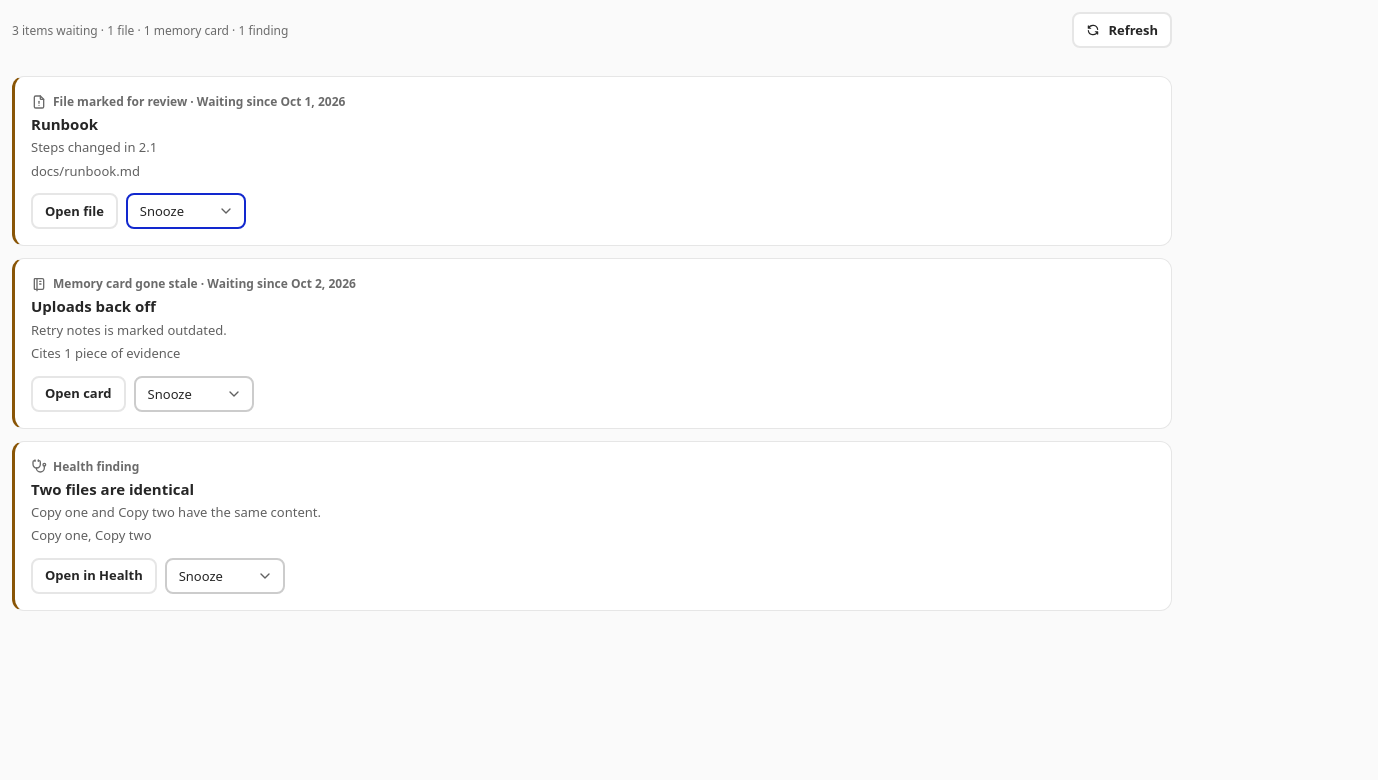
ReviewQueuePanel › snoozes an item until the day chosen, reads the list again and shares the answer with the tab
Expected: the heading "Runbook" is shown, [31, 114, 98, 134]
Press ArrowDown in the dropdown named "Snooze Runbook", box [126, 193, 246, 229]
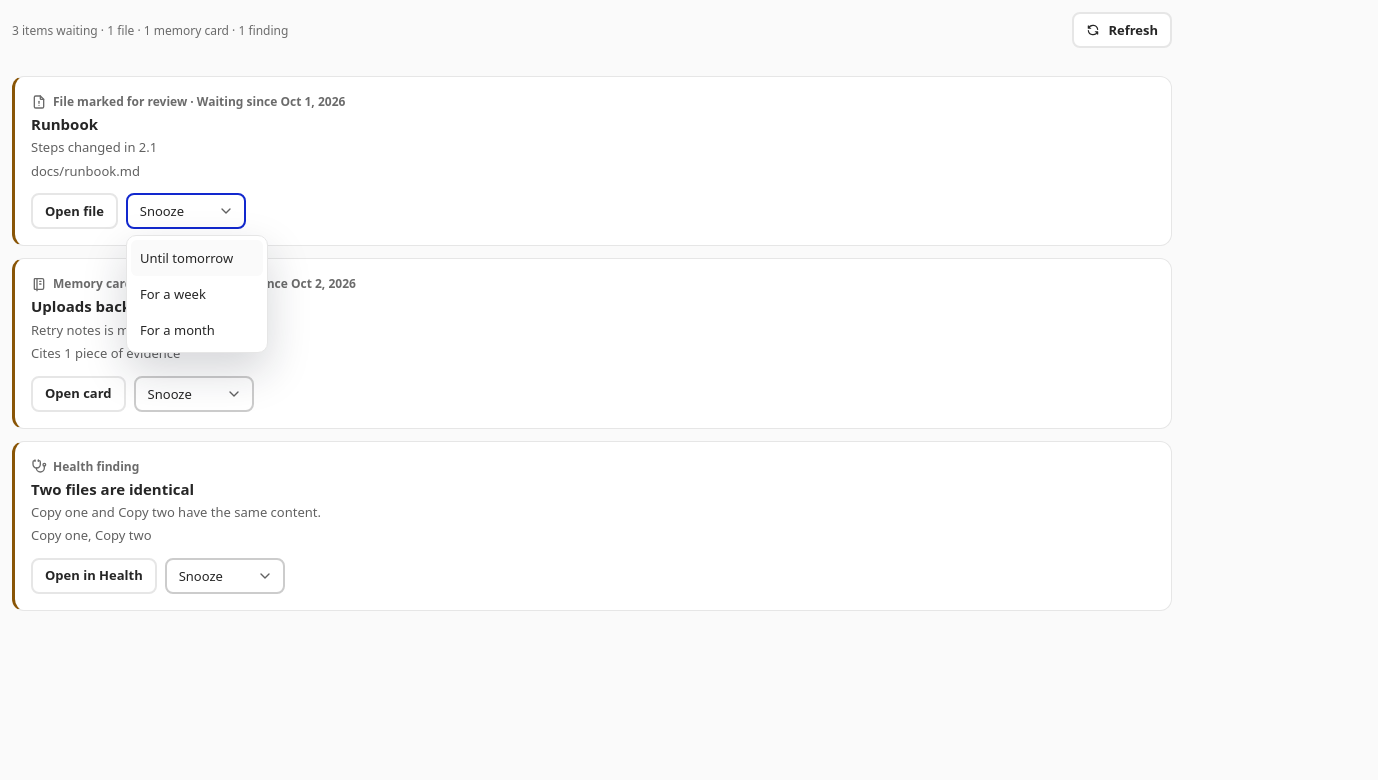
Press Enter in the option "For a week", box [140, 285, 206, 303]
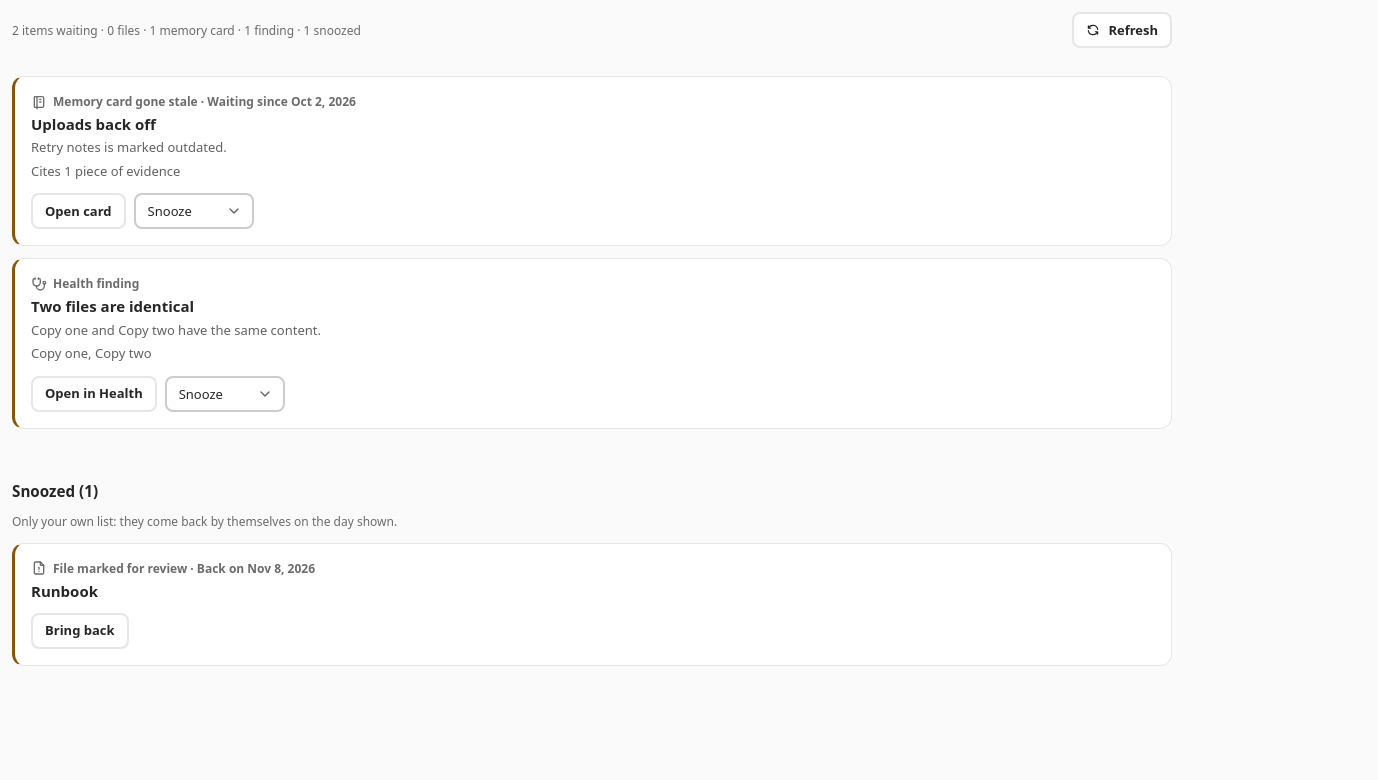
Expected: the text "2 items waiting" is shown, [12, 22, 294, 38]
Expected: the text "1 snoozed" is shown, [294, 22, 361, 38]
Expected: the text "File marked for review · Back on Nov 8, 2026" is shown, [31, 560, 315, 576]
Click the button "Bring back": (80, 631) [31, 613, 129, 649]
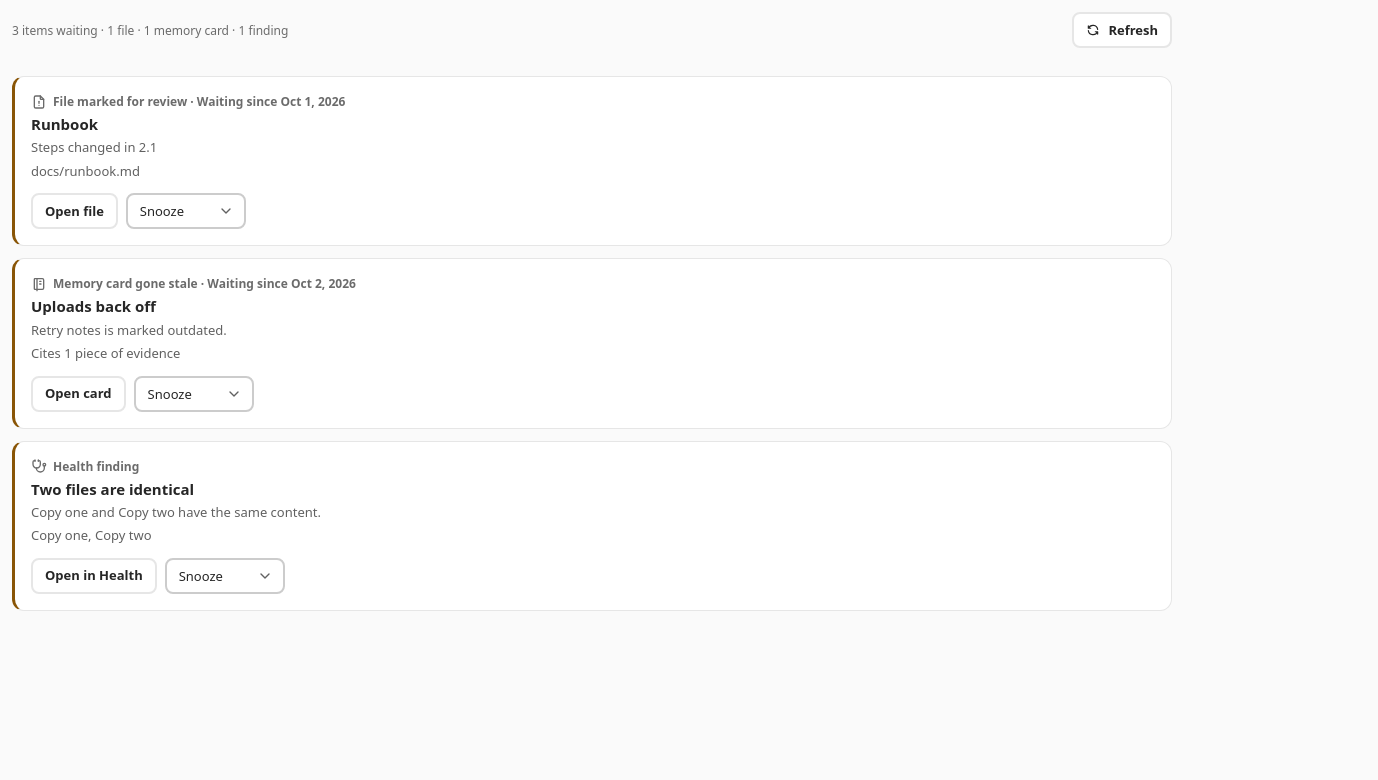
Expected: the text "3 items waiting · 1 file · 1 memory card · 1 finding" is shown, [12, 22, 288, 38]
